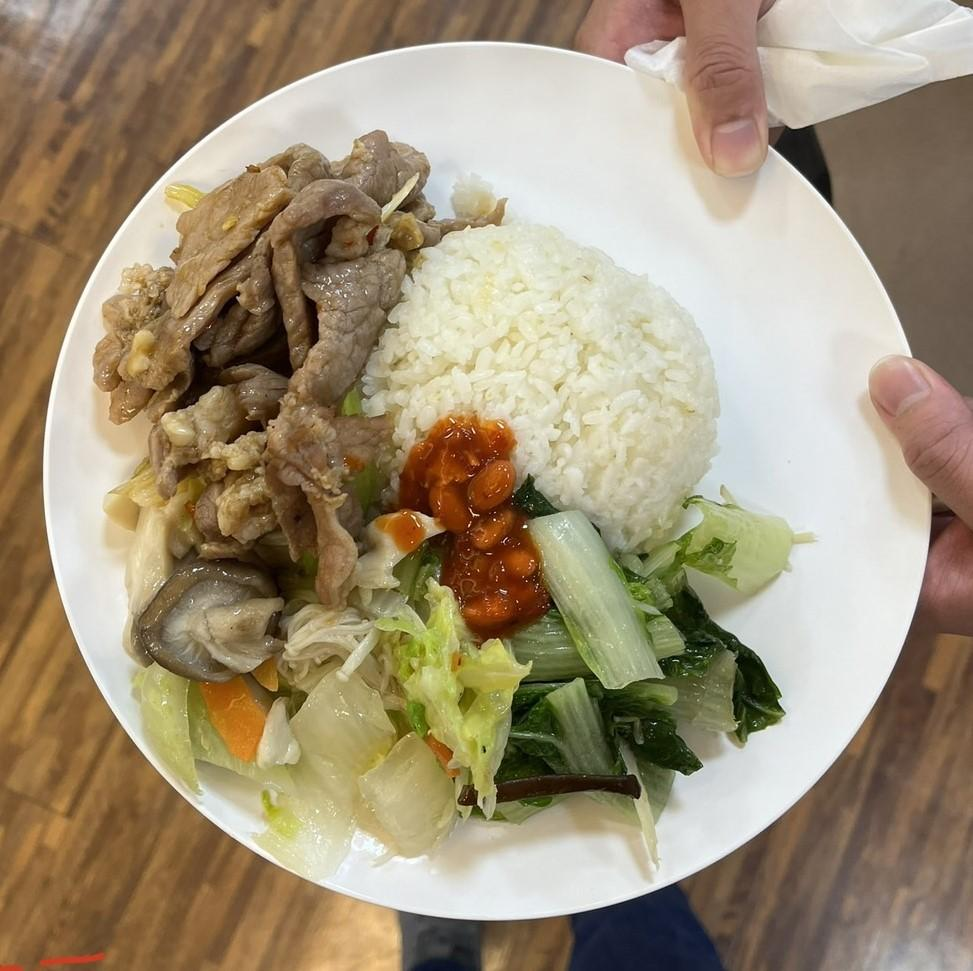big fried chicken leg: (34, 36, 950, 921)
big herbal chicken leg: (359, 206, 723, 547)
braised fish fillet: (110, 524, 494, 854), (486, 512, 792, 827)
braised pork: (91, 104, 438, 584)
